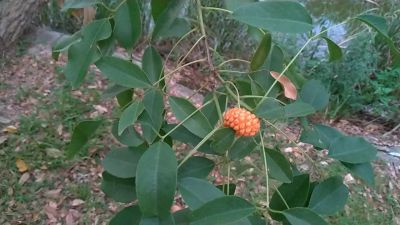eggs: (221, 104, 260, 139)
